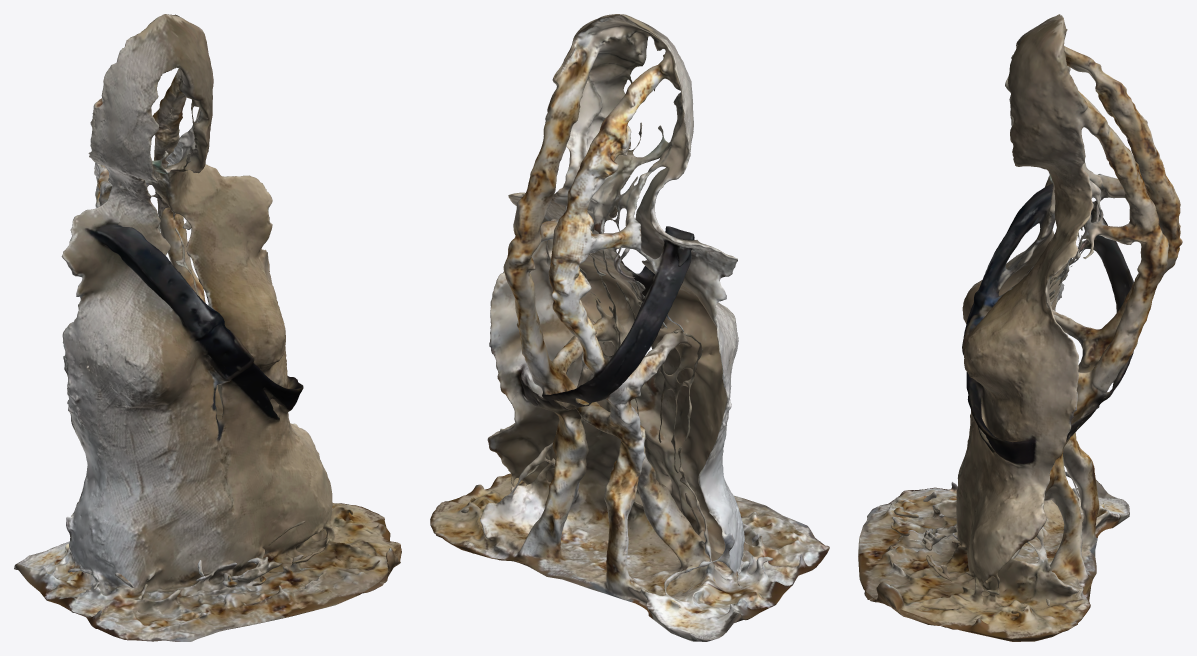
3 views of the same model, side by side, from view 1: azimuth 30°, elevation 25°; view 2: azimuth 150°, elevation 25°; view 3: azimuth 270°, elevation 25° (orthographic). The views are drawn at different scales.
Parts seen in each view (by area): view 1: 3DModel; view 2: 3DModel; view 3: 3DModel.
Part boxes in pixels (box(x1,y1,x2,y2)): 3DModel: box(14, 14, 401, 641); 3DModel: box(430, 14, 829, 641); 3DModel: box(858, 14, 1182, 641).
Size of the model in its own units: 0.8093 by 1.29 by 0.6998.
Materials: 1 (1 with a texture image).
